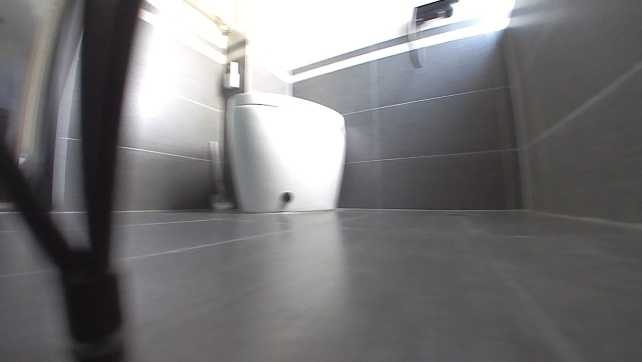toilet: (223, 91, 350, 215)
